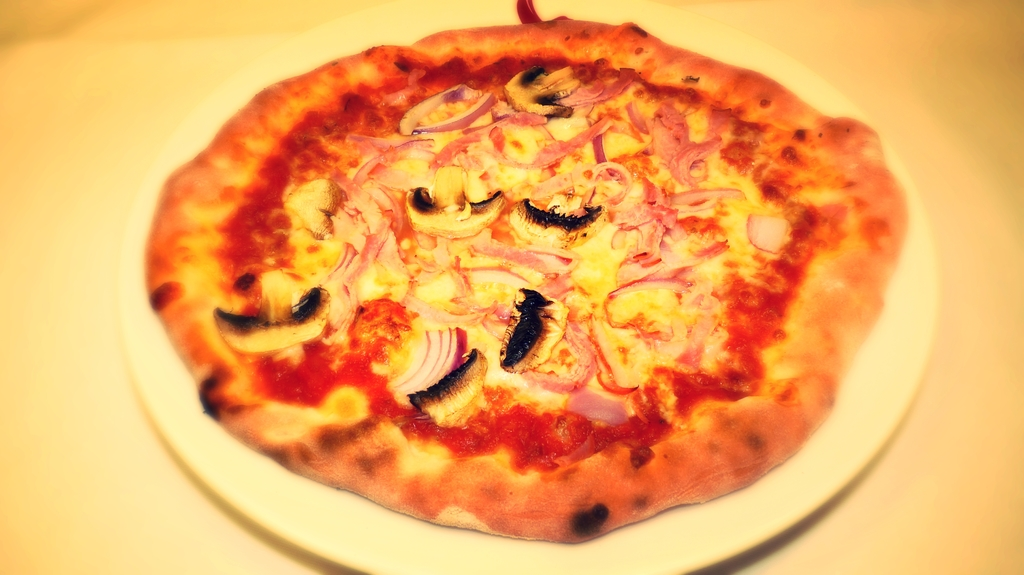Pizza: (108, 0, 942, 573)
